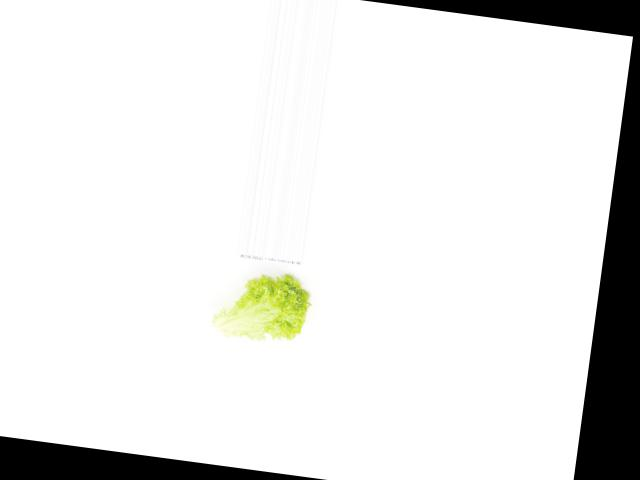lettuce: (210, 265, 318, 351)
